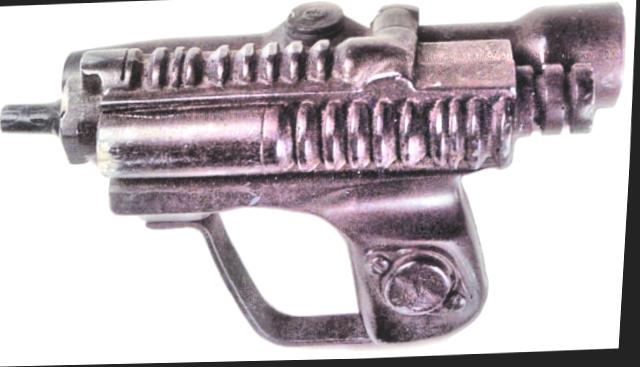pistol: (0, 0, 631, 361)
